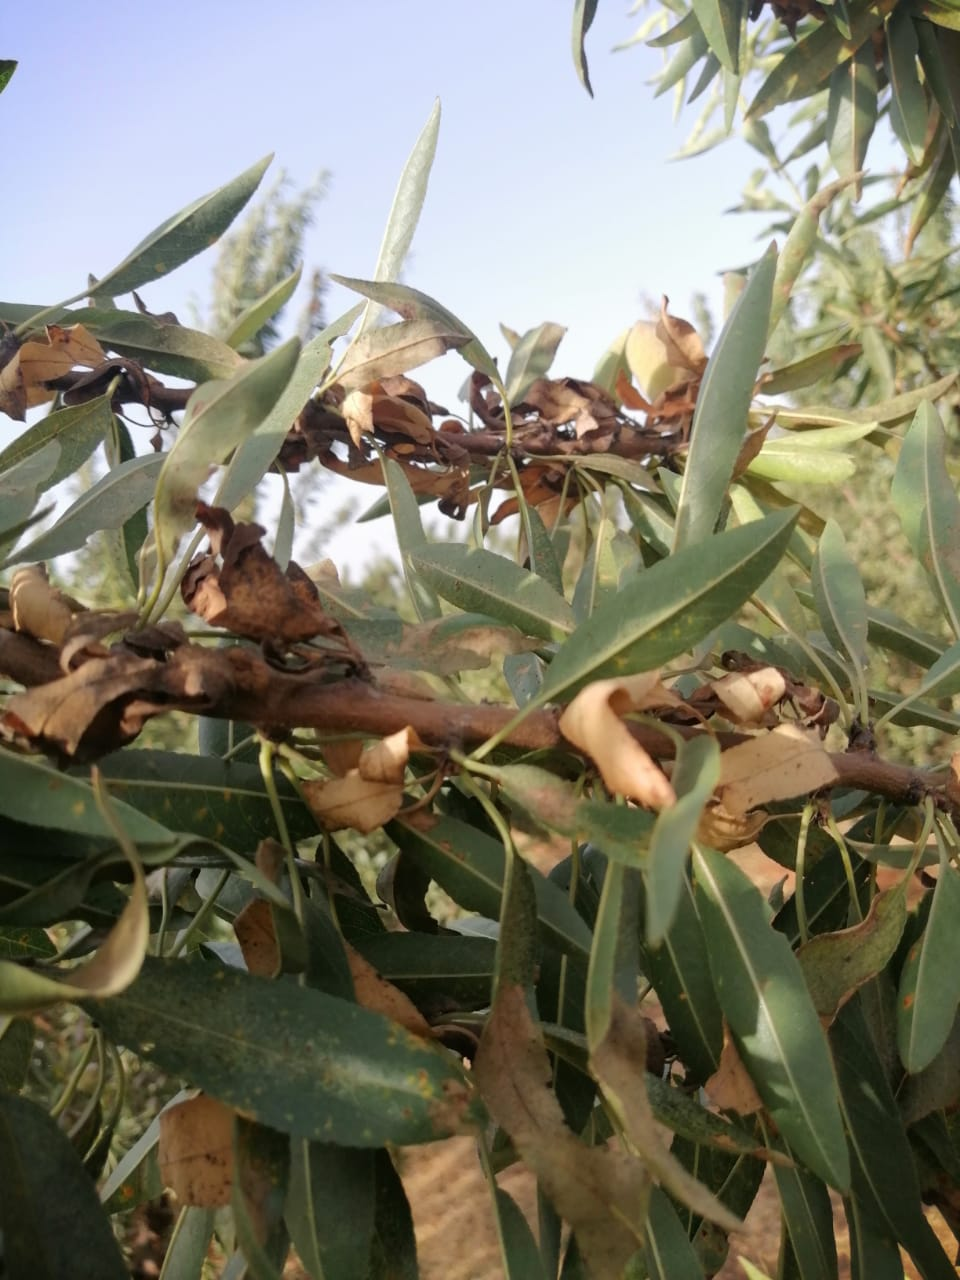scolytes: (1, 513, 880, 854), (1, 302, 752, 541)
